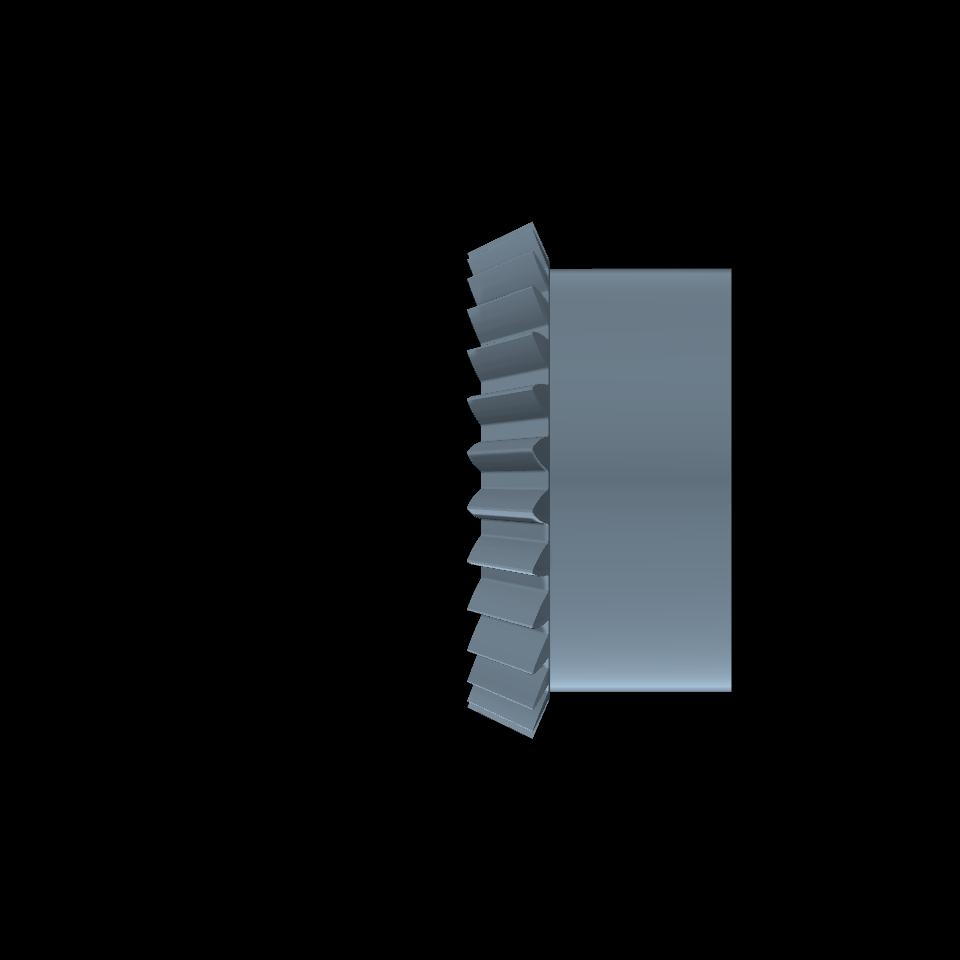Bevel: (467, 220, 551, 738)
